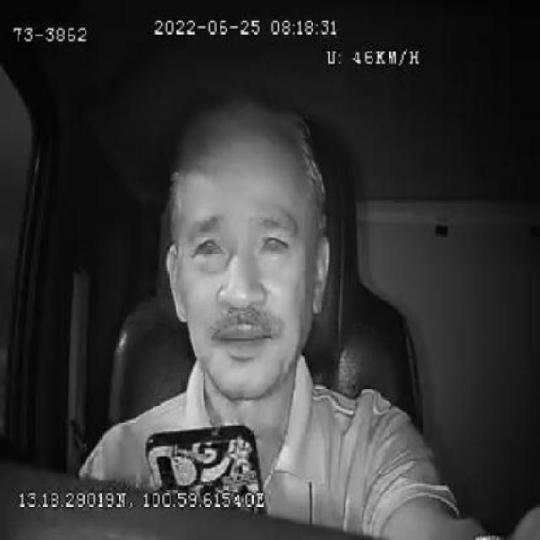phone: (146, 424, 264, 491)
